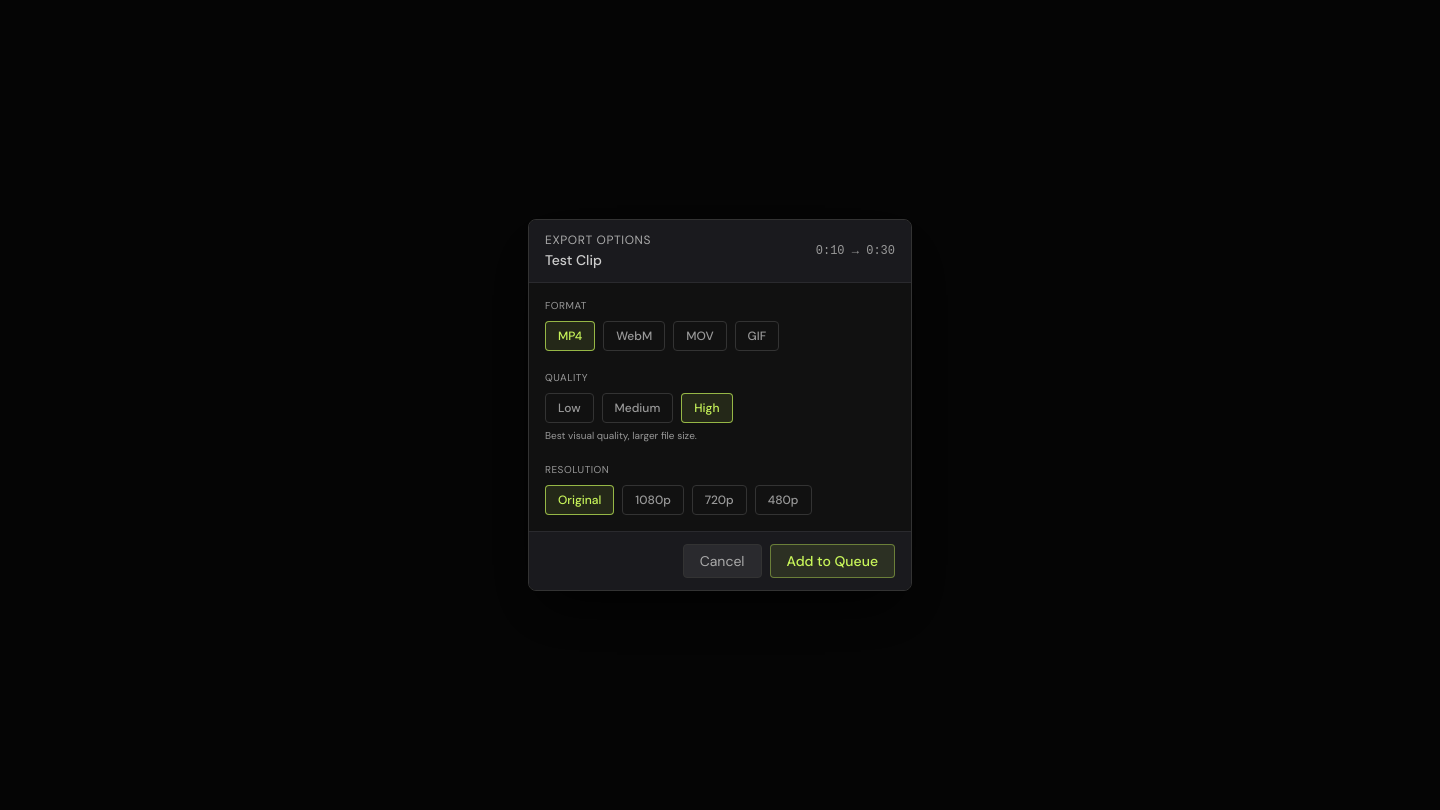
Scenario: ExportOptionsModal — GIF warning › enables Add to Queue after acknowledging the GIF warning
Click the button "GIF" at (757, 336), box [735,321,779,351]
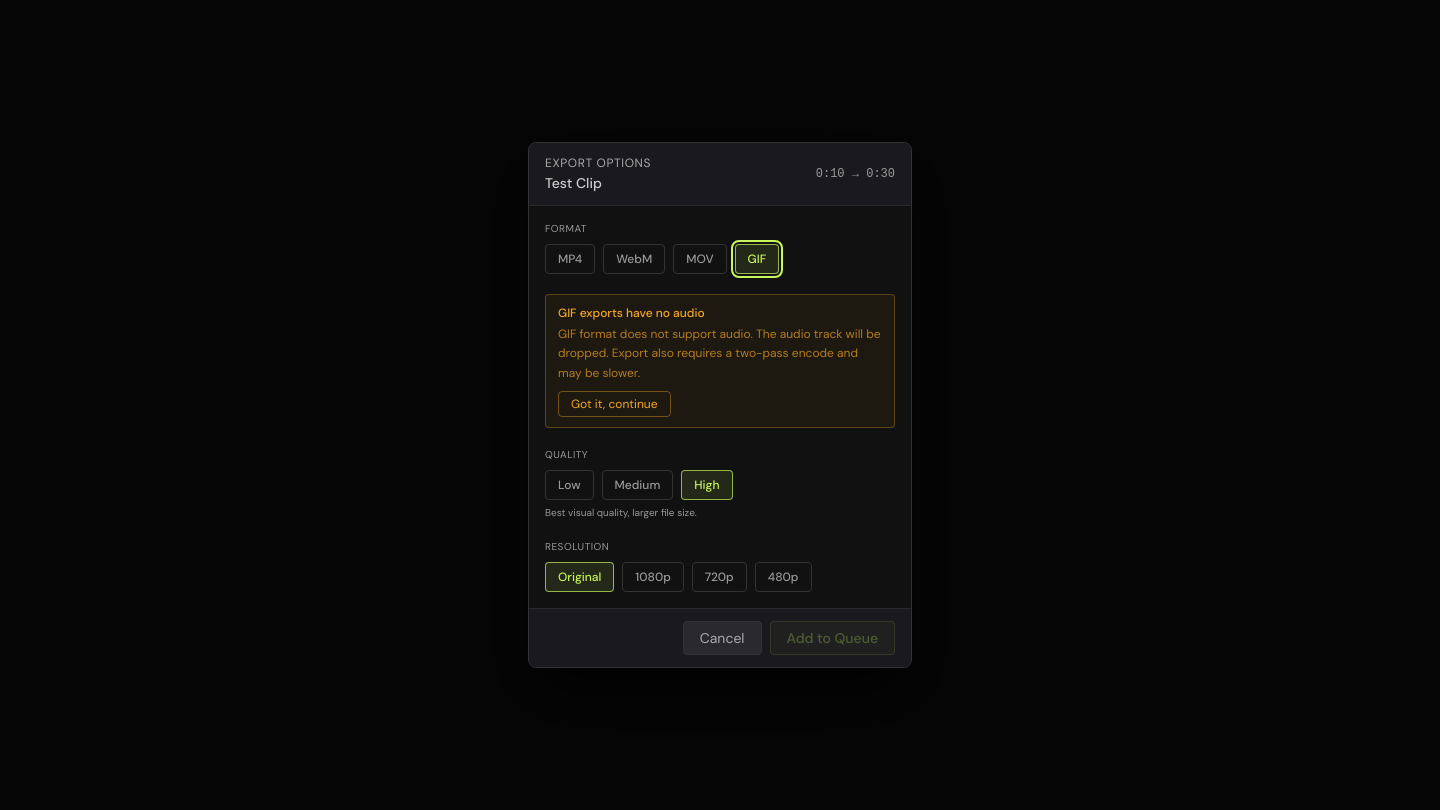
Click the button "Got it, continue" at (614, 404), box [558,391,670,417]
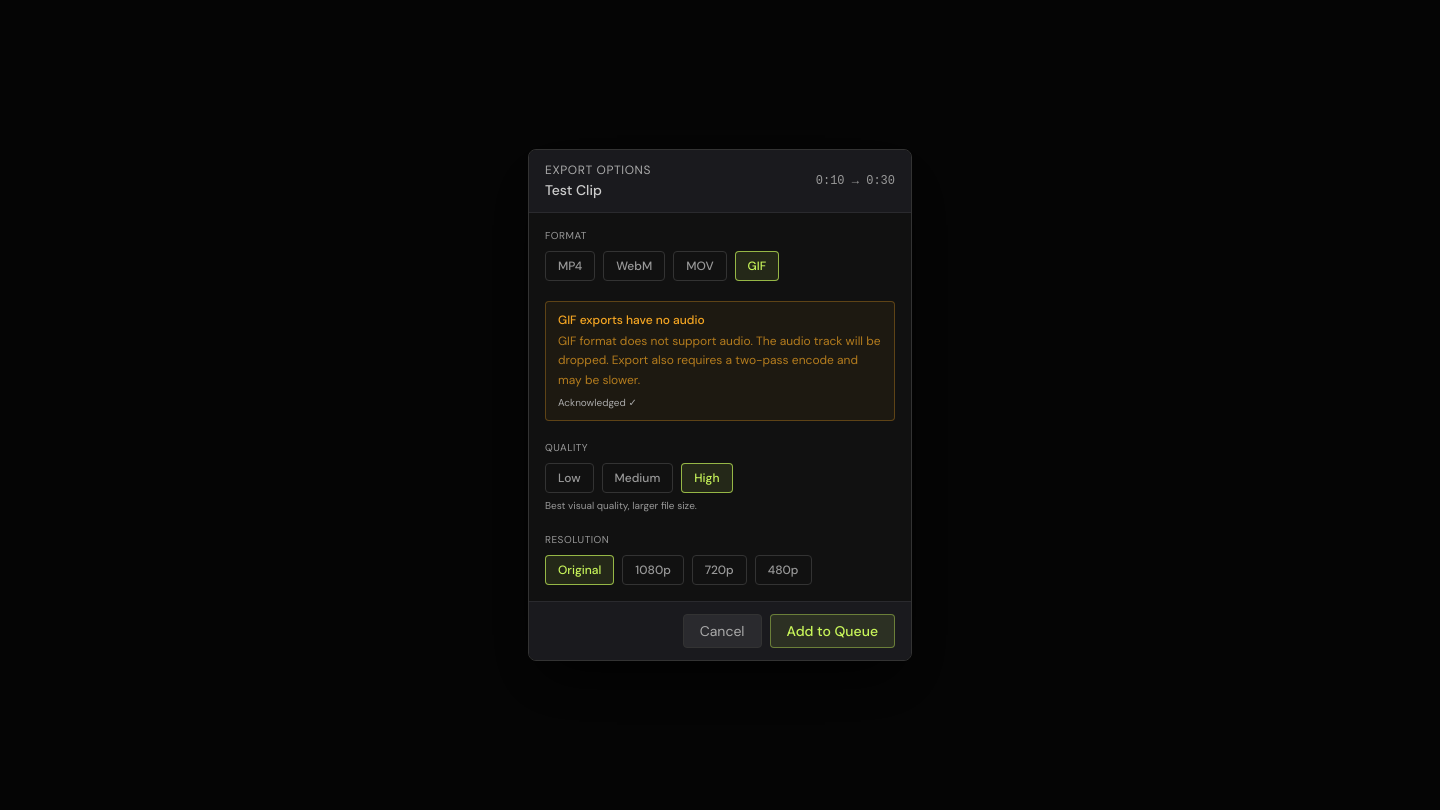
Now the button "Add to Queue" is enabled, box [770,614,895,648]
